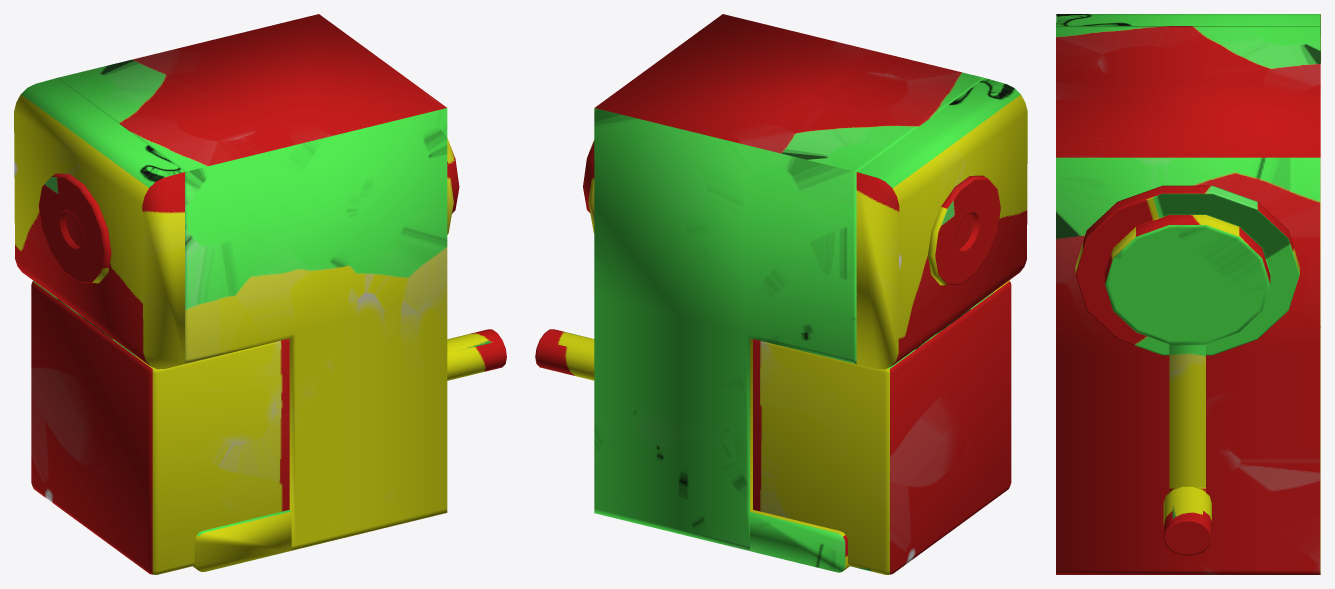
File: SerutanGedeJadi.fbx
3 views of the same model, side by side, from view 1: azimuth 30°, elevation 25°; view 2: azimuth 150°, elevation 25°; view 3: azimuth 270°, elevation 25° (orthographic). The views are drawn at different scales.
Parts seen in each view (by area): view 1: Cube; view 2: Cube; view 3: Cube.
Boxes of the visible parts, box(x1,y1,x2,y2) form: Cube: box(14, 14, 506, 574); Cube: box(535, 14, 1027, 574); Cube: box(1056, 14, 1320, 574).
Bounding box in the file's own units: 548 × 502 × 289.
